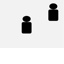human: (20, 14, 32, 35), (47, 2, 59, 22)
